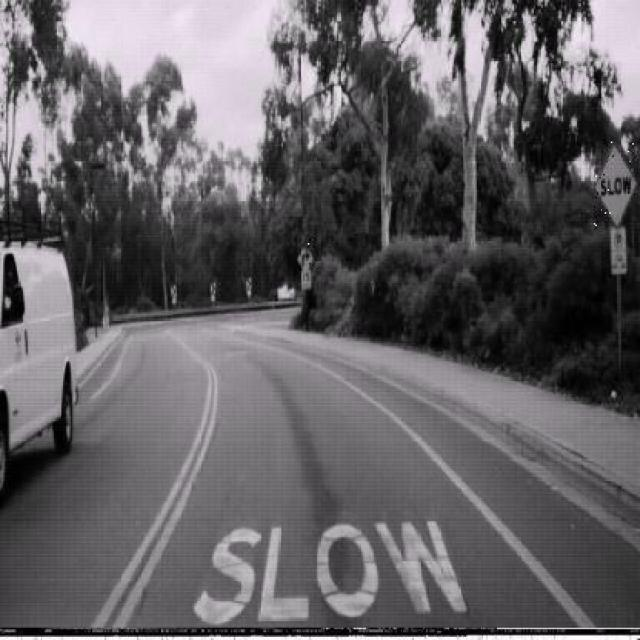slow: (594, 140, 637, 228)
turnRight: (297, 243, 312, 274)
